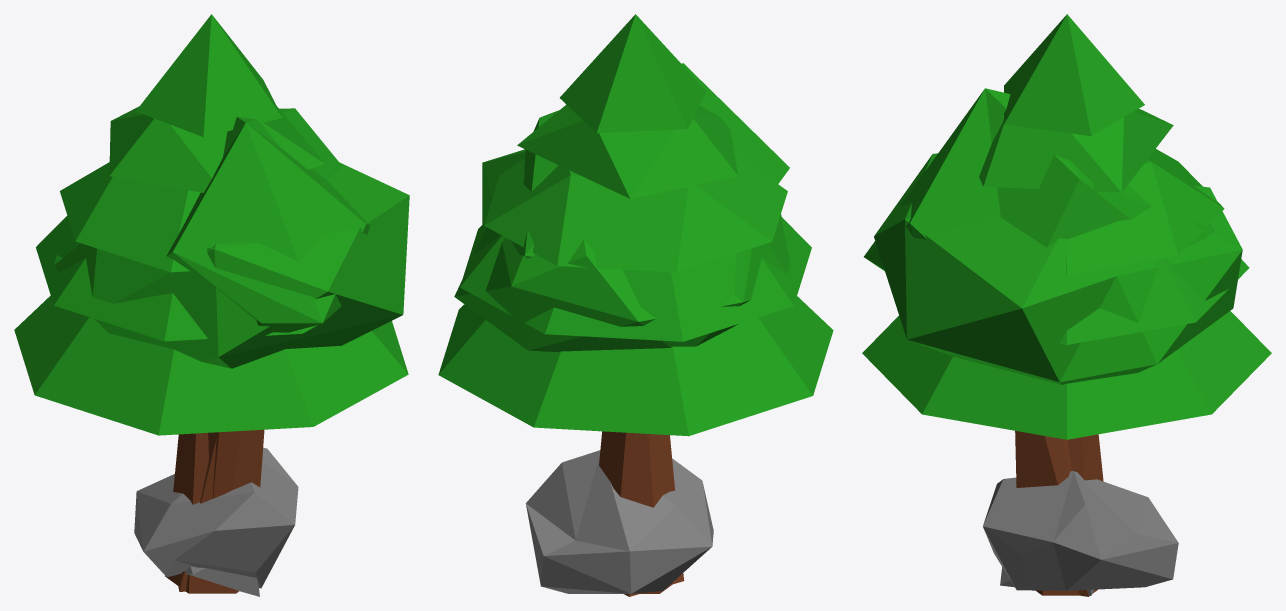
File: LowPolyForest.fbx
3 views of the same model, side by side, from view 1: azimuth 30°, elevation 25°; view 2: azimuth 150°, elevation 25°; view 3: azimuth 270°, elevation 25° (orthographic).
Visible parts, largest first — view 1: tree3, tree2, tree, stone, stone2; view 2: tree3, stone, tree2, tree; view 3: tree3, tree2, stone, tree.
Part boxes in pixels (<box>): tree3: <box>14,14,408,593</box>; tree2: <box>54,162,409,591</box>; tree: <box>166,108,370,498</box>; stone: <box>134,448,298,588</box>; stone2: <box>185,566,259,596</box>; tree3: <box>438,14,833,593</box>; stone: <box>526,450,713,593</box>; tree2: <box>454,149,789,596</box>; tree: <box>511,63,789,258</box>; tree3: <box>862,14,1271,595</box>; tree2: <box>874,153,1242,596</box>; stone: <box>983,471,1178,590</box>; tree: <box>864,88,1214,270</box>.
Bounding box in the file's own units: 863 × 1314 × 863.
